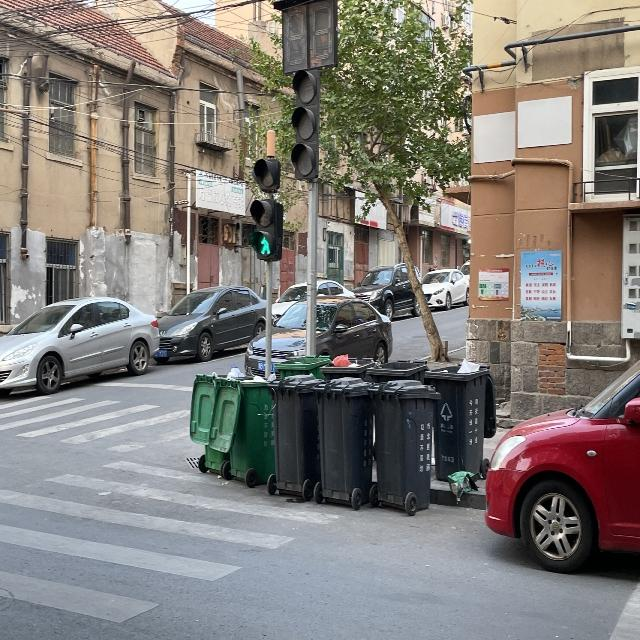garbage: (446, 469, 478, 502)
garbage_bin: (367, 378, 440, 512), (311, 376, 373, 501), (266, 372, 320, 492)
overflow: (425, 358, 496, 480), (208, 372, 275, 484), (190, 364, 241, 472)
